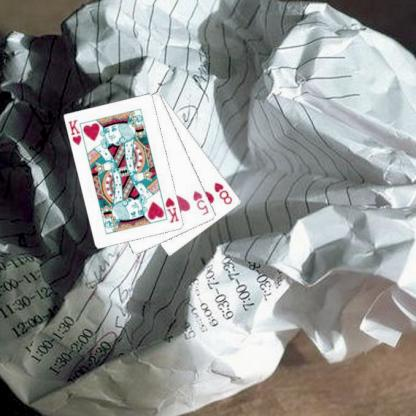5H: (190, 188, 210, 216)
8H: (212, 179, 234, 206)
KH: (162, 194, 180, 224), (66, 116, 82, 146)
